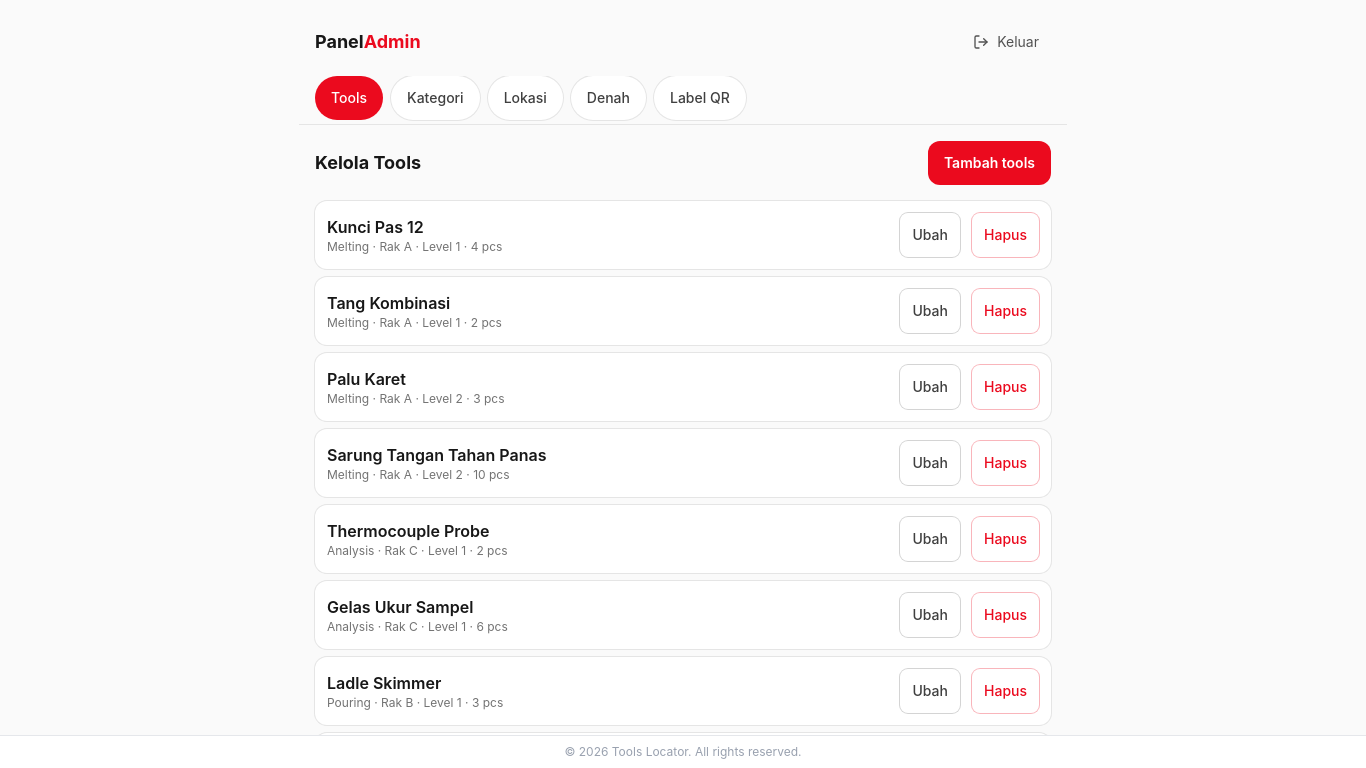
Test: menolak simpan saat nama kosong
The image size is (1366, 768).
Check: the text "Kunci Pas 12" is shown, box [327,217,424,237]
What coordinates should you click on to do the following:
click the button "Tambah tools"
I would click on:
 (989, 163)
Its box is [928,141,1051,185].
(page scrolled)
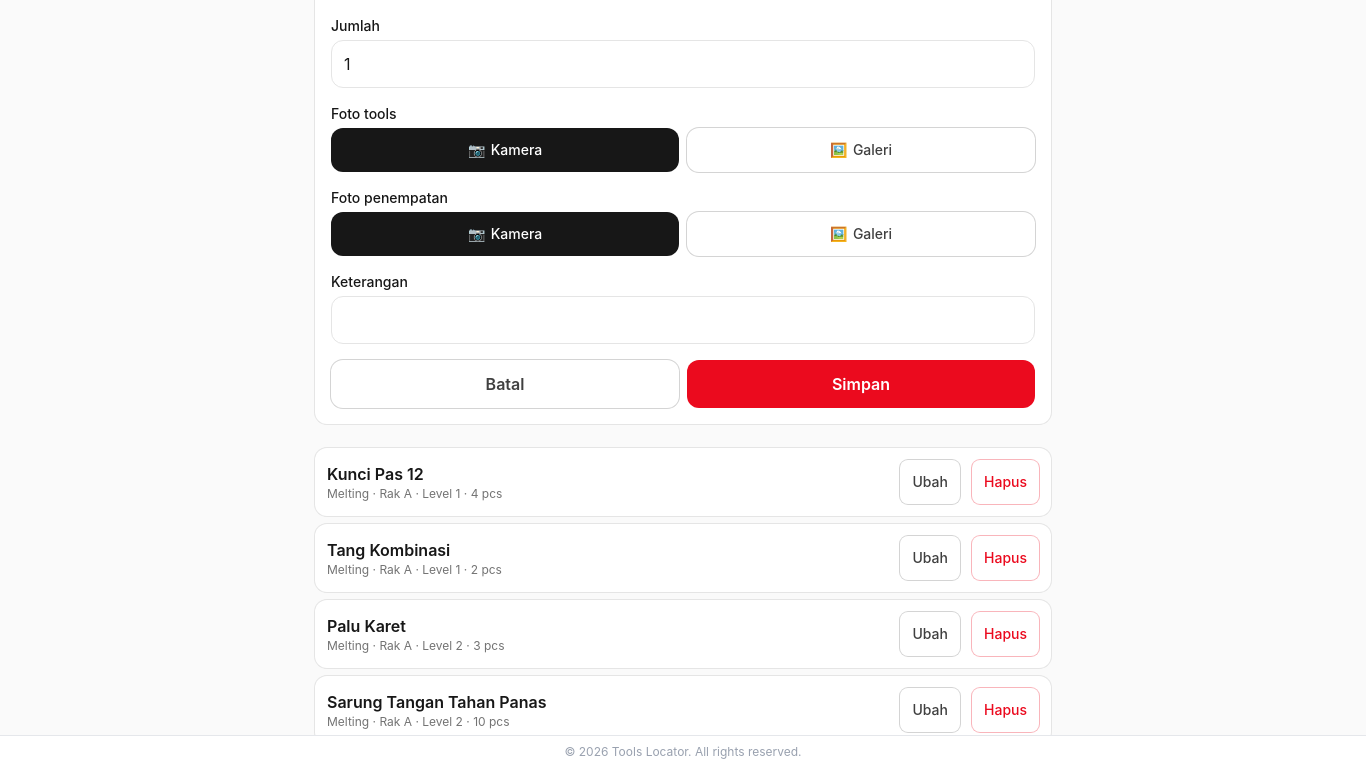
What coordinates should you click on to do the following:
click the button "Simpan"
I would click on:
 (861, 384)
Its box is [687,360,1035,408].
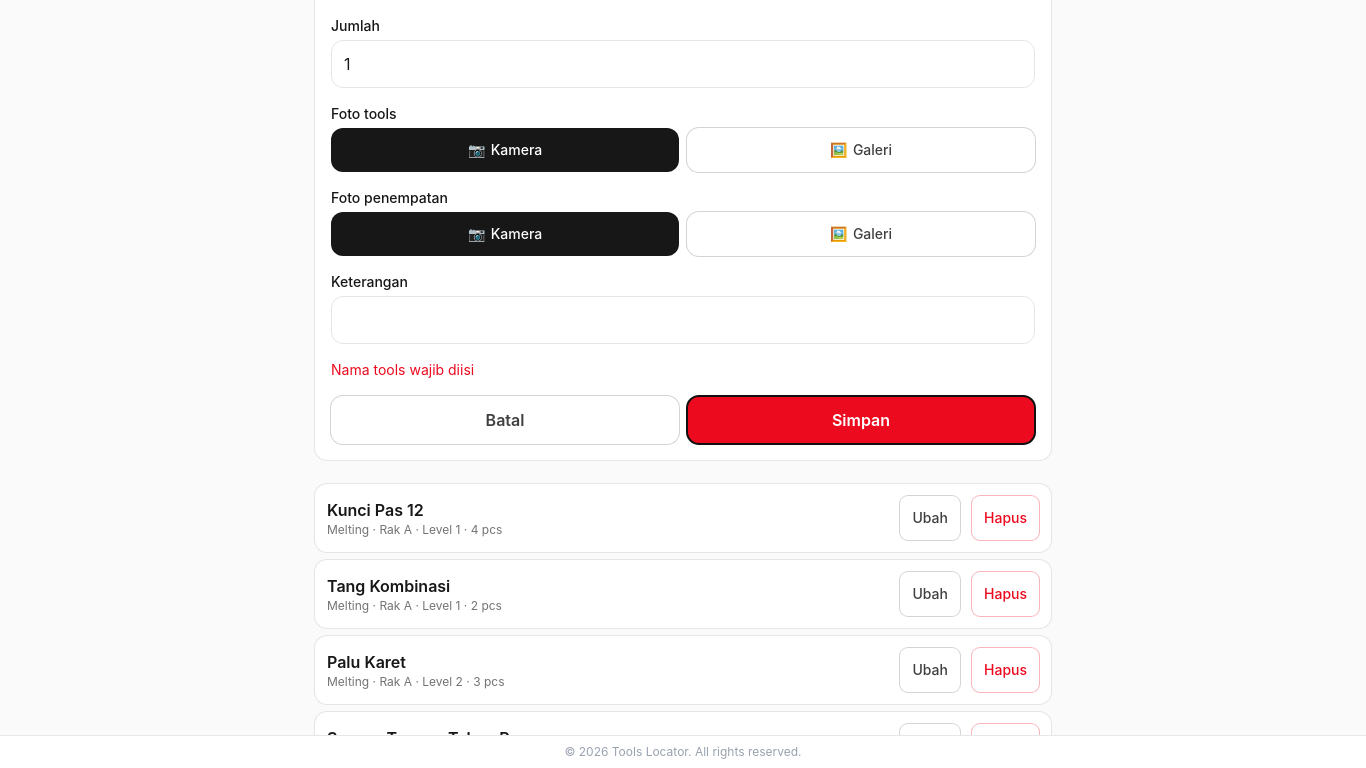
Check: the text "Nama tools wajib diisi" is shown, box [331,361,474,378]
